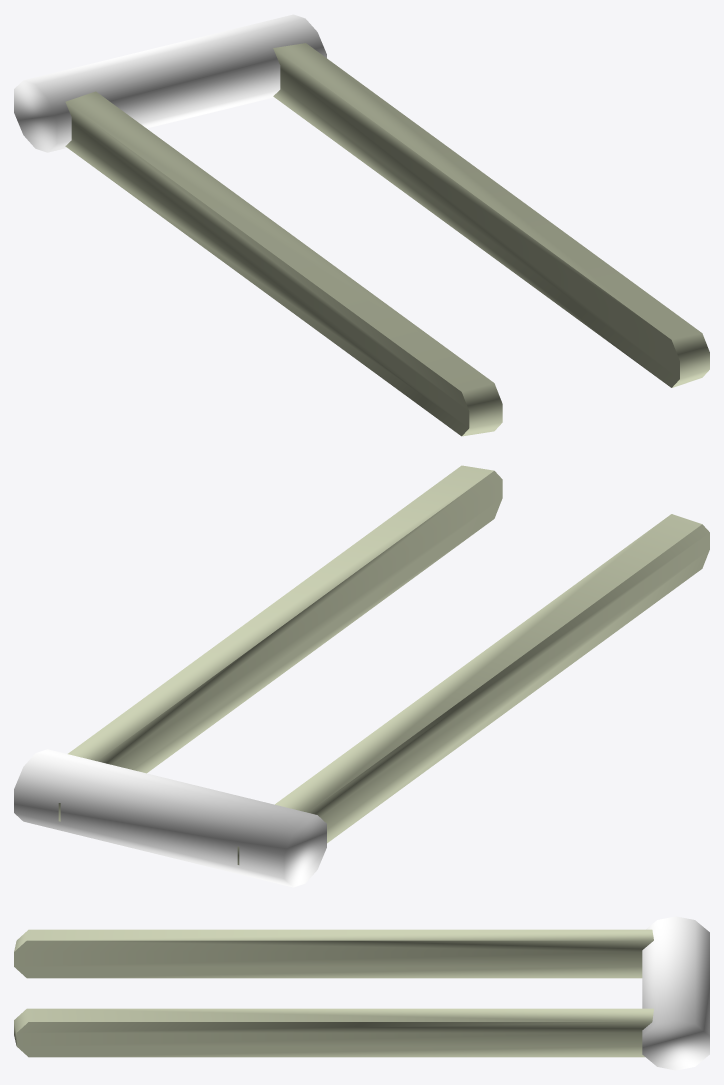
The model's file is Canon_Barrel_Handle.fbx.
3 views of the same model, one above another, from view 1: azimuth 30°, elevation 25°; view 2: azimuth 150°, elevation 25°; view 3: azimuth 270°, elevation 25° (orthographic). The views are drawn at different scales.
Visible parts, largest first — view 1: Canon_Barrel_Handle, Canon_Barrel_Handle_Col; view 2: Canon_Barrel_Handle, Canon_Barrel_Handle_Col; view 3: Canon_Barrel_Handle, Canon_Barrel_Handle_Col.
Part boxes in pixels (x1=…): Canon_Barrel_Handle: x1=65, y1=43, x2=709, y2=436; Canon_Barrel_Handle_Col: x1=14, y1=14, x2=326, y2=152; Canon_Barrel_Handle: x1=58, y1=465, x2=709, y2=864; Canon_Barrel_Handle_Col: x1=14, y1=749, x2=326, y2=887; Canon_Barrel_Handle: x1=14, y1=929, x2=653, y2=1057; Canon_Barrel_Handle_Col: x1=642, y1=916, x2=709, y2=1070.
Bounding box in the file's own units: 30.52 × 6.94 × 86.53.
